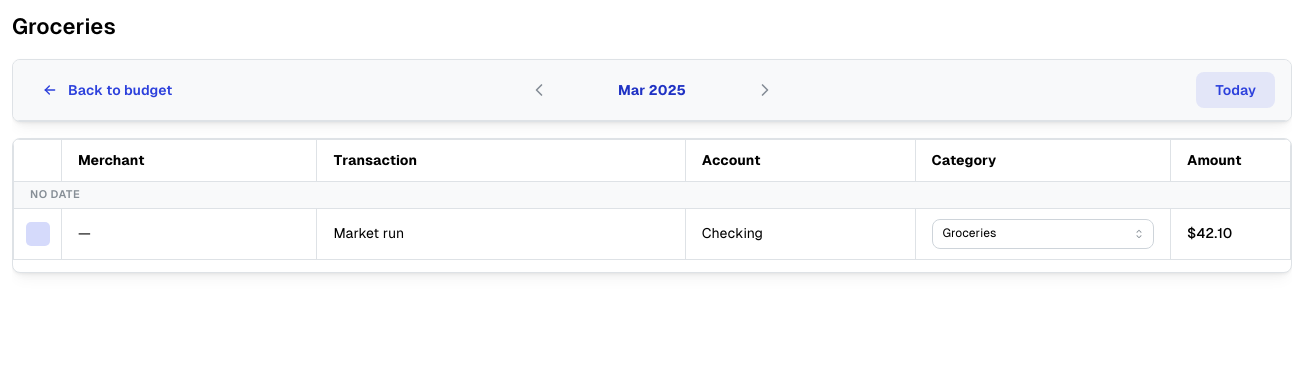
Scenario: CategoryTransactions › shows a category update failure and restores the row
This screenshot has width=1292, height=380.
What coordinates should you click on to do the following:
click the field named "Category for Market run"
I would click on:
 (1043, 234)
Its box is [932,219,1154,249].
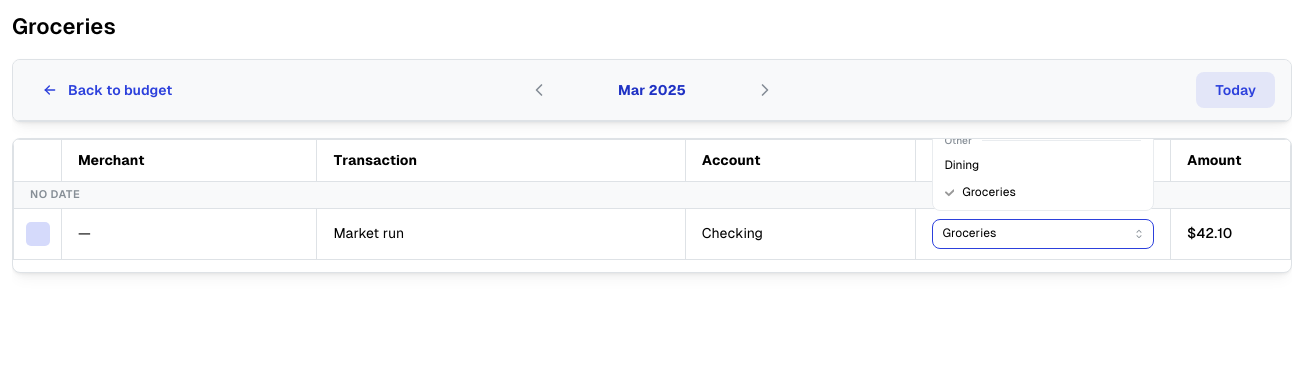
What coordinates should you click on to do the following:
click the option "Dining"
I would click on:
 (962, 166)
Its box is [945,158,979,172].
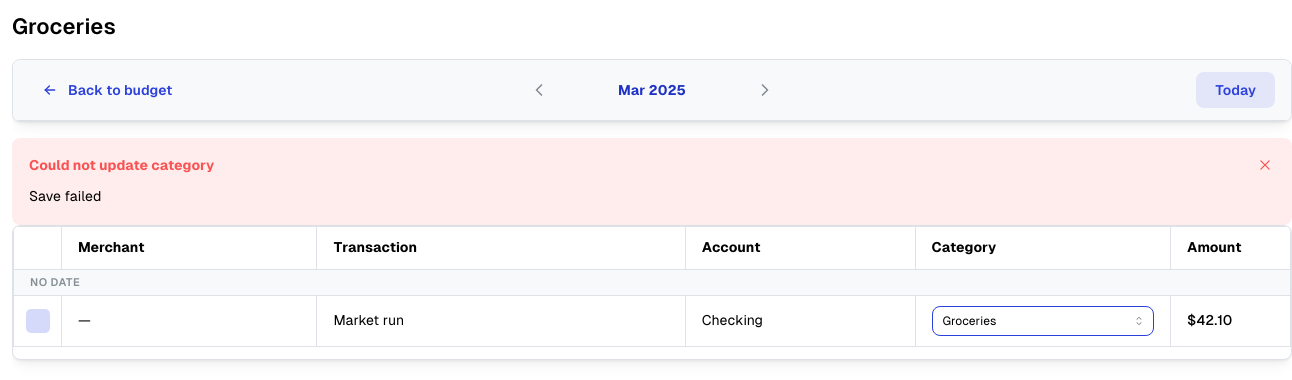
expect the text "Market run" is shown: met, box [317,296,685,346]
expect the text "Save failed" is shown: met, box [29,188,101,204]
